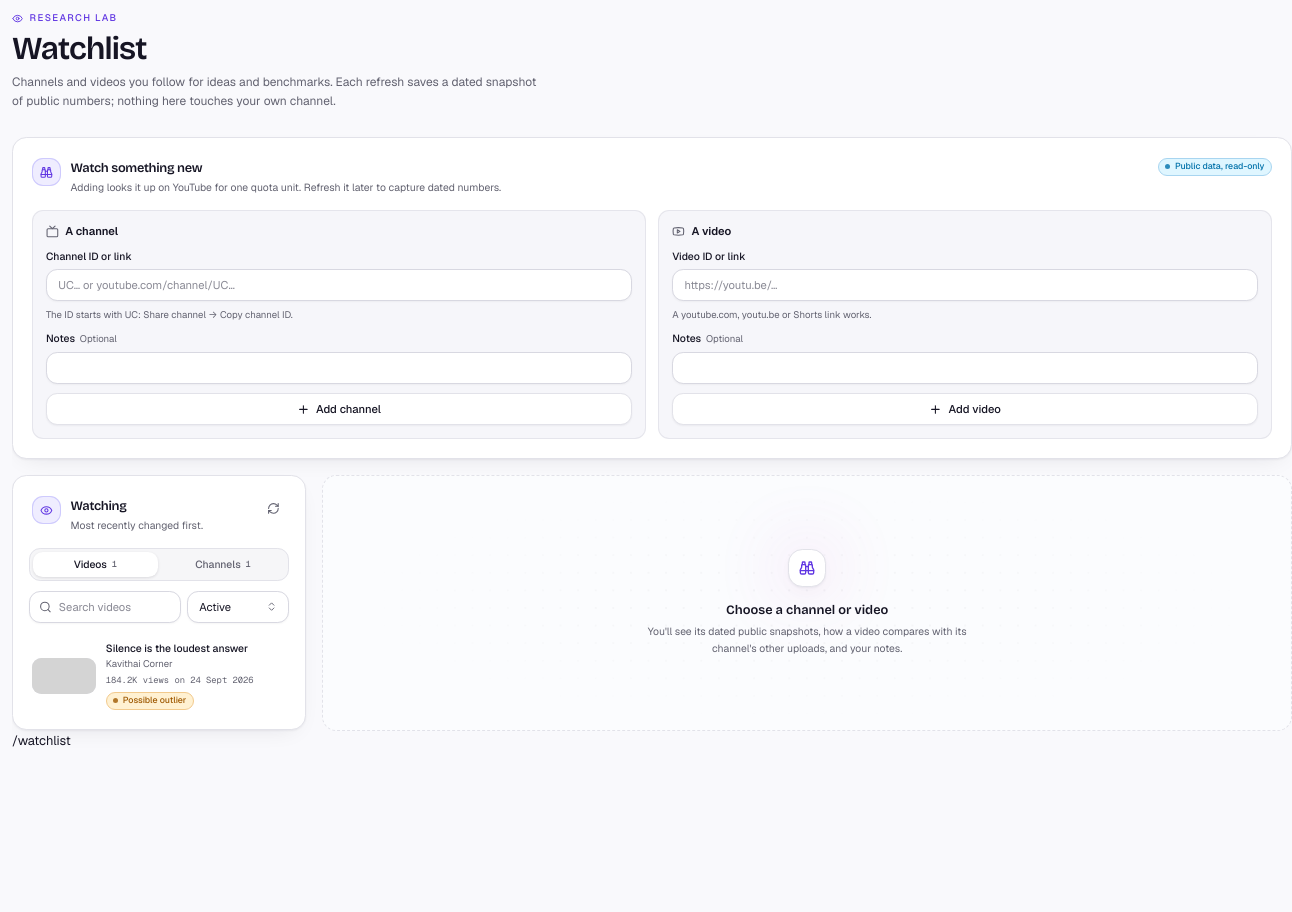
Test: WatchlistPage › explains that a handle can't be looked up, without spending quota
Type "@kavithaicorner" into the field labelled "Channel ID or link" at (339, 285), box [46,269,632,301]
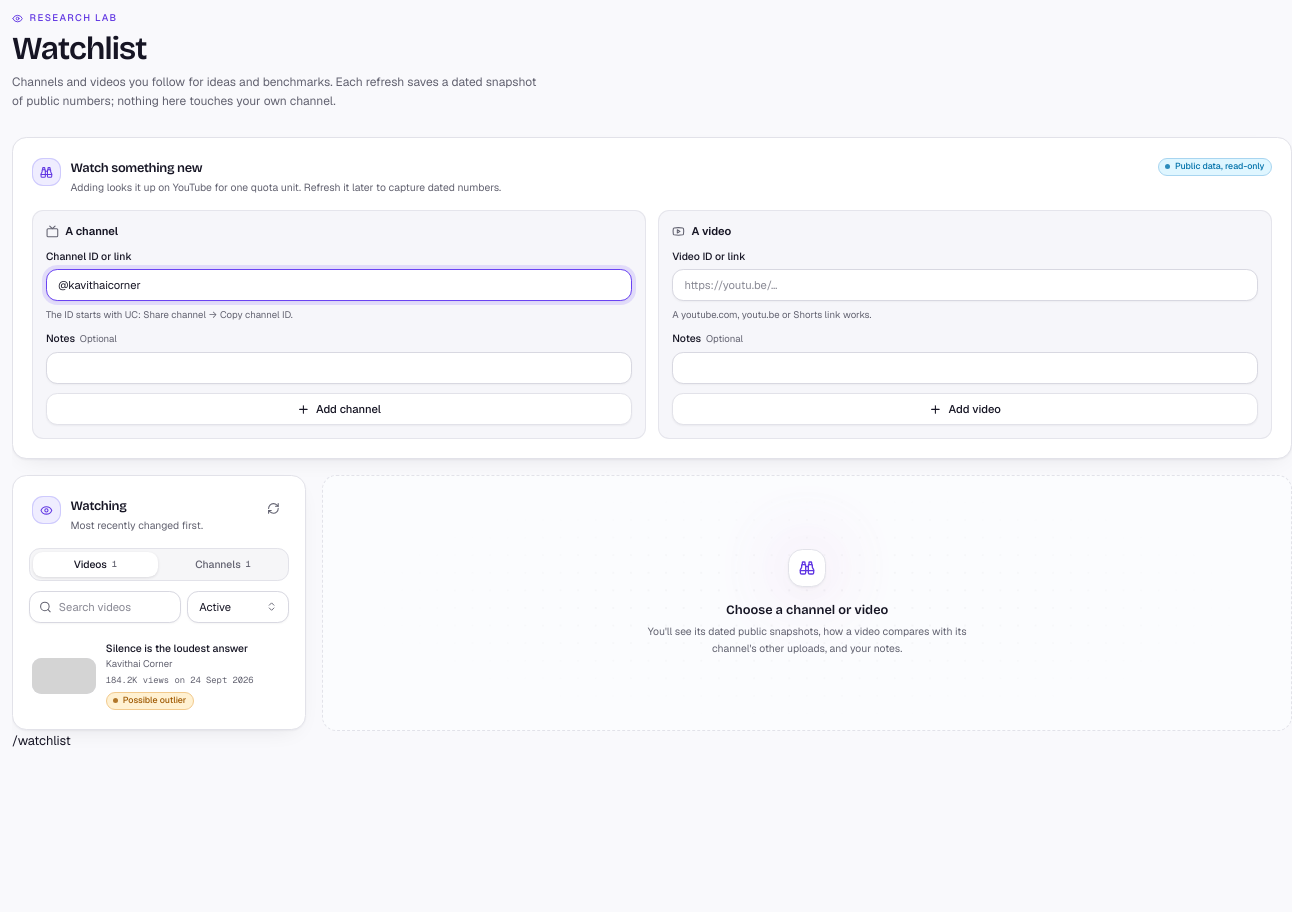
Click the button "Add channel" at (339, 409), box [46,393,632,425]
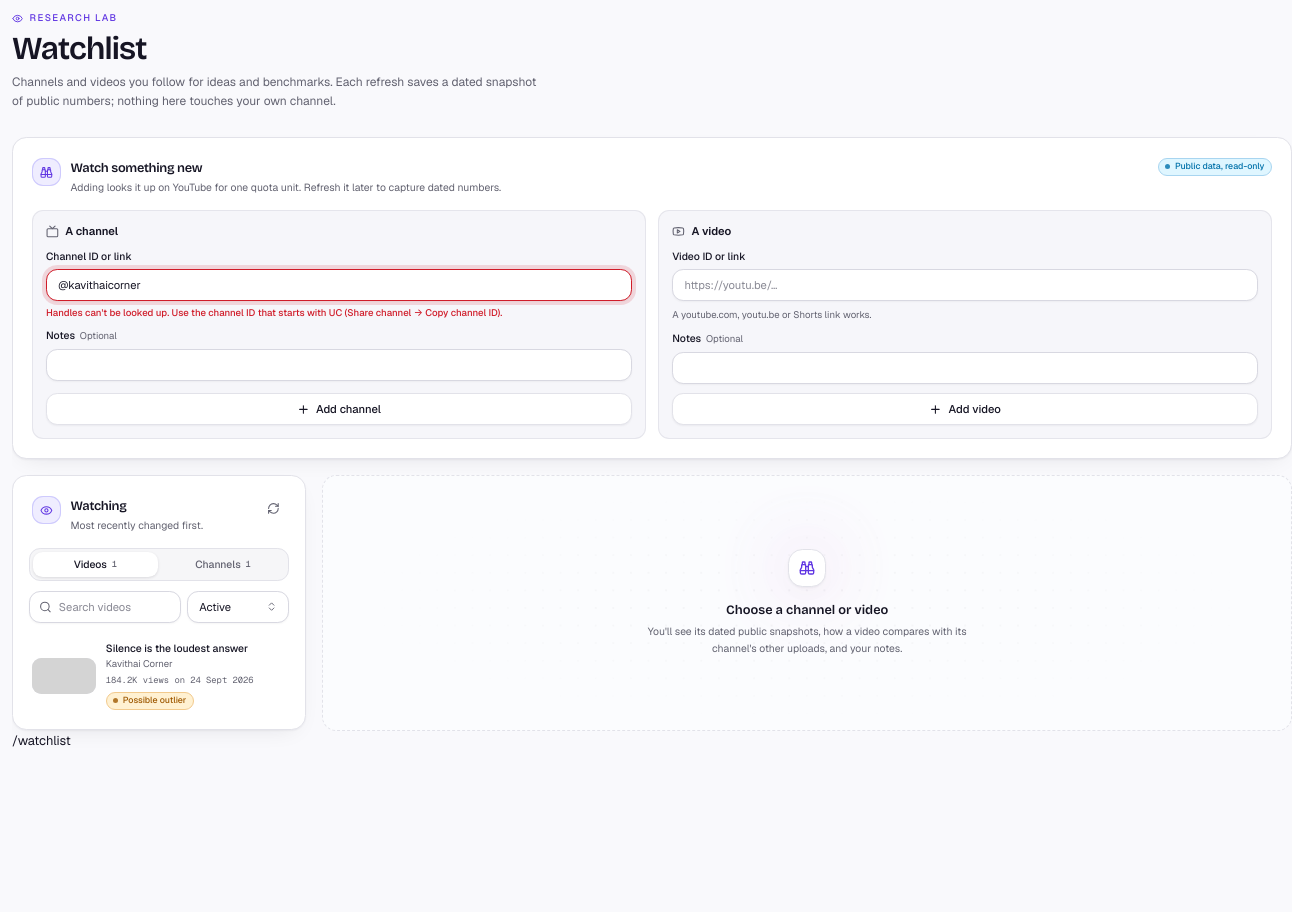
Result: the text "Handles can't be looked up" is shown at [46,306,502,319]
